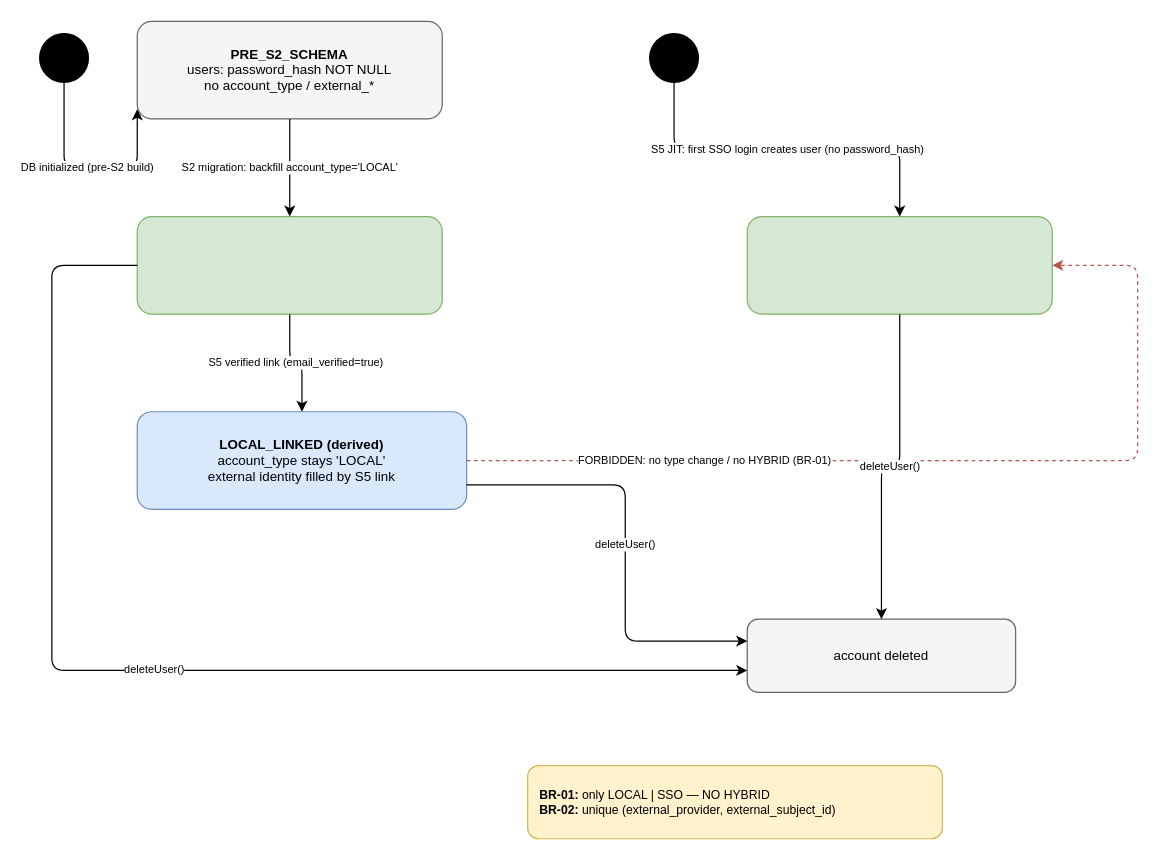
Some shapes in this 1169 by 860 pixel diagram are drawn without their labels. Here are the shapes that lost their labels. From the top down, the centre of each, then its label:
At (289,264): "LOCAL account_type='LOCAL' password_hash set, external_* NULL".
At (899,264): "SSO account_type='SSO', password_hash NULL external identity set (BR-03)".
